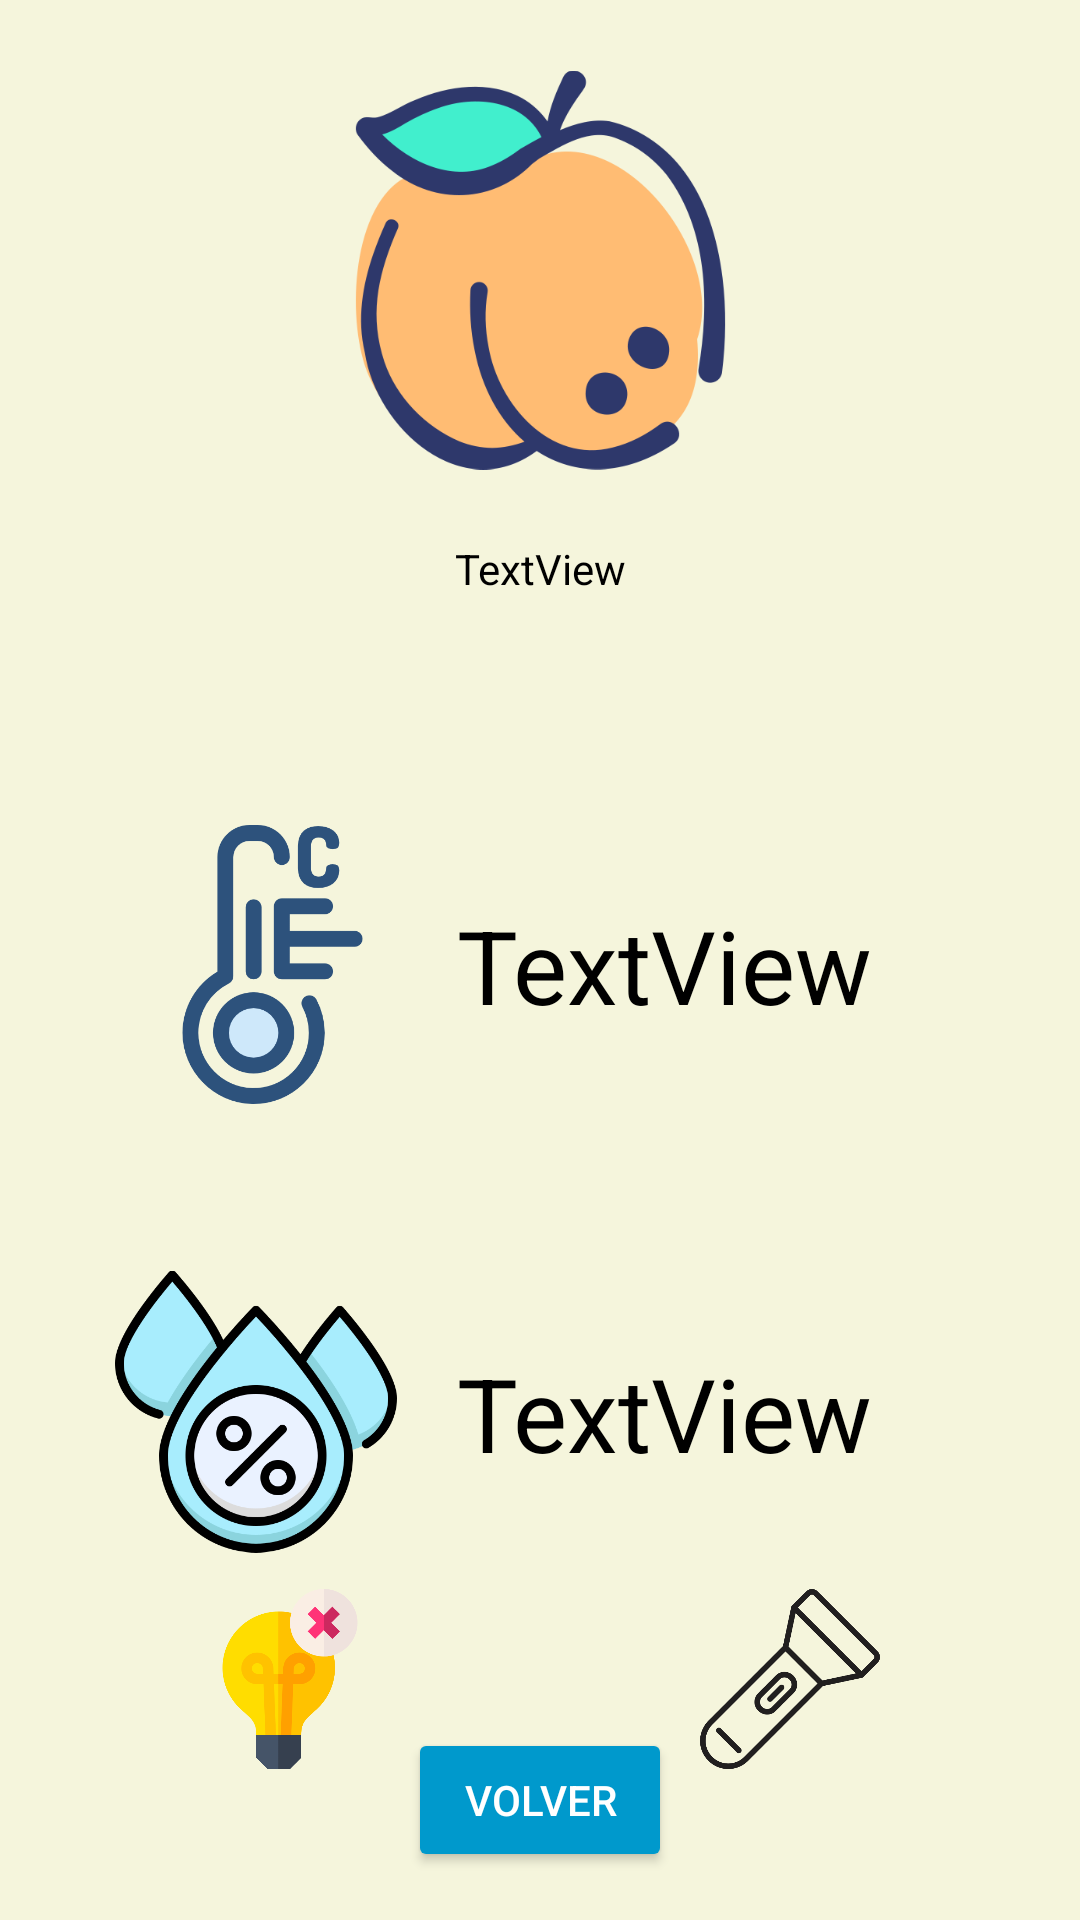

Icon bounding boxes for this 1080 x 1920 phone screenshot, format (x1, y1, x2, y2):
Controlar ampolleta: (222, 1606, 340, 1769)
Controlar linterna: (700, 1589, 880, 1769)
humedad: (115, 1271, 397, 1553)
tempbaja: (182, 825, 363, 1104)
